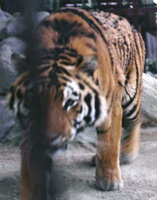Tigre: (12, 11, 142, 178)
